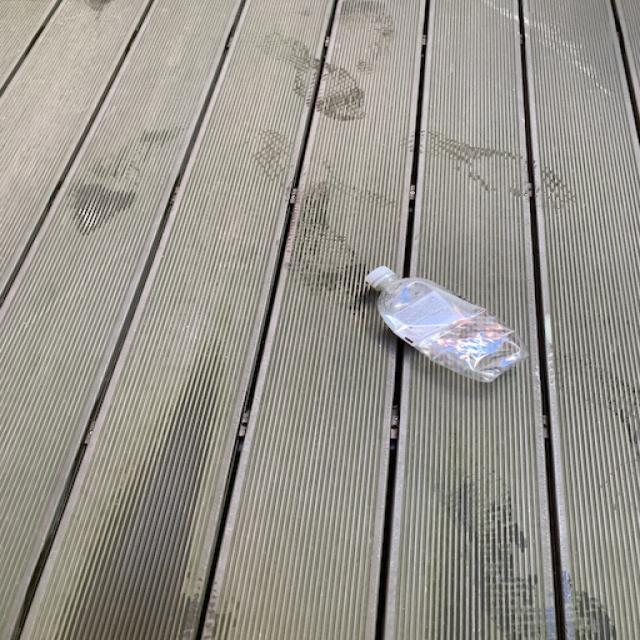Plastic: (366, 266, 529, 383)
